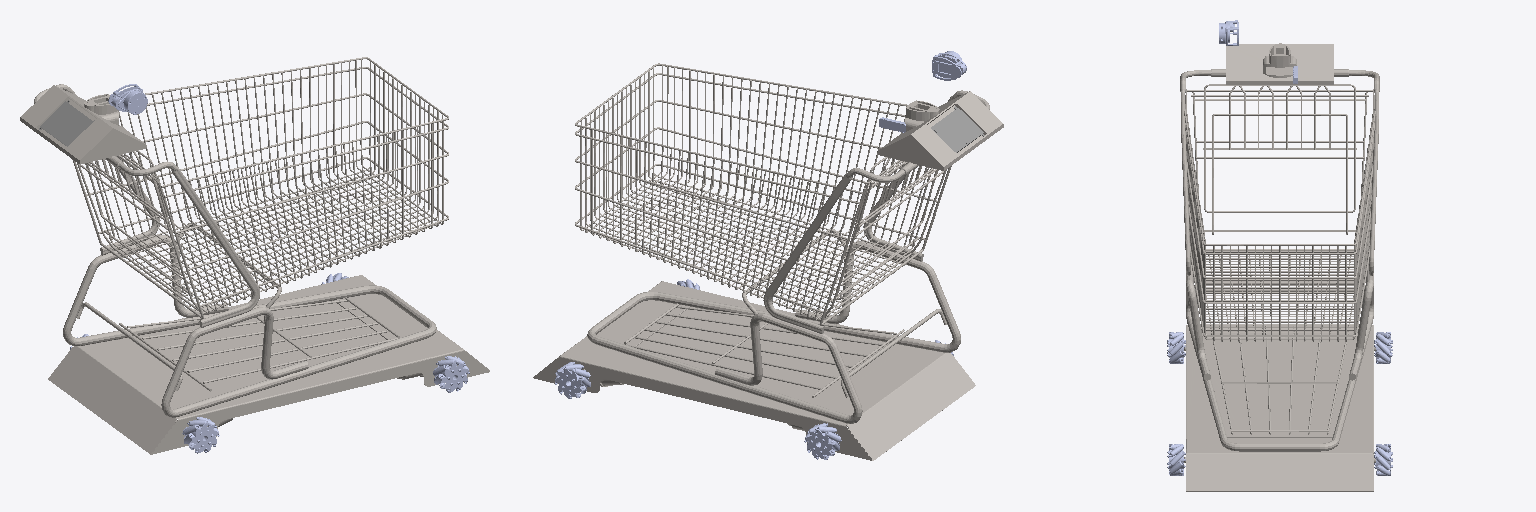
The robot description file, URDF, robot "carucior_asamblat":
<?xml version="1.0" encoding="utf-8"?>
<robot name="carucior_asamblat">

  <!-- ============================================================
       FRAME CONVENTION FIX
       Modelul CAD a fost exportat cu axa "forward" pe -Y in loc de
       +X standard. Pentru a face nav2/slam_toolbox/etc sa-l vada cu
       forward pe +X (conventia ROS), introducem base_footprint ca
       root si rotim base_link cu +90deg Z. Astfel:
         base_footprint +X = base_link -Y = robot's actual forward
         base_footprint +Y = base_link +X = robot's actual left
       Toate inversiunile cmd_vel din cod (follower, delivery_manager)
       devin inutile dupa acest fix.
       ============================================================ -->
  <link name="base_footprint"/>

  <joint name="base_footprint_to_base_link" type="fixed">
    <!-- base_footprint = CENTRUL DE ROTATIE (mijloc roti spate motrice).
         T_x=-0.24 pune base_footprint exact la mijloc roti spate:
           R(π/2)*(0.51,-0.24) + (-0.24,-0.51) = (0,0) ✓
         Astfel plugin-ul diff_drive raporteaza odom corect (fara wobble
         rotativ). z=-0.24 pastreaza wheel bottom la sol. -->
    <origin xyz="-0.24 -0.51 -0.24" rpy="0 0 1.5708"/>
    <parent link="base_footprint"/>
    <child  link="base_link"/>
  </joint>

  <!-- ===================== BASE ===================== -->
  <link
    name="base_link">
    <inertial>
      <origin xyz="0.538 -0.580 0.830" rpy="0 0 0"/>
      <mass value="63.3293776271428"/>
      <inertia ixx="14.8168" ixy="0" ixz="0"
               iyy="7.7277"  iyz="0"
               izz="11.4307"/>
    </inertial>



    <visual>
      <origin
        xyz="0 0 0"
        rpy="0 0 0" />
      <geometry>
        <mesh
          filename="package://carucior_asamblat/meshes/base_link.STL" />
      </geometry>
      <material
        name="">
        <color
          rgba="0.776470588235294 0.756862745098039 0.737254901960784 1" />
      </material>
    </visual>
    <collision>
      <origin
        xyz="0 0 0"
        rpy="0 0 0" />
      <geometry>
        <mesh
          filename="package://carucior_asamblat/meshes/base_link.STL" />
      </geometry>
    </collision>
  </link>
  <link
    name="roata_fata_stanga">
    <inertial>
      <origin
        xyz="-9.11939412873153E-11 3.62448737689647E-10 -0.029046440432834"
        rpy="0 0 0" />
      <mass
        value="0.266614745081332" />
      <inertia
        ixx="8.05443064198349E-05"
        ixy="-9.52176841062871E-16"
        ixz="-1.1689138977038E-12"
        iyy="8.05443064182605E-05"
        iyz="-3.10186380160039E-13"
        izz="9.3181151539936E-05" />
    </inertial>
    <visual>
      <origin
        xyz="0 0 0"
        rpy="0 0 0" />
      <geometry>
        <mesh
          filename="package://carucior_asamblat/meshes/roata_fata_stanga.STL" />
      </geometry>
      <material
        name="">
        <color
          rgba="0.792156862745098 0.819607843137255 0.933333333333333 1" />
      </material>
    </visual>
    <!-- Collision = cilindru primitiv in loc de mesh STL.
         Mesh-ul STL exportat din CAD are forma de coaja/spite si nu face
         contact corect cu podeaua → roata se invarte in gol fara tractiune.
         Cilindru radius=0.12 (matches <wheel_radius> in diff_drive plugin),
         length=0.05 (latime aproximativa). Axa cilindrului = axa locala Z
         a wheel-ului (aliniata cu axa de rotatie dupa rpy). -->
    <collision>
      <origin xyz="0 0 0" rpy="0 0 0" />
      <geometry>
        <cylinder radius="0.12" length="0.10"/>
      </geometry>
    </collision>
  </link>
  <joint
    name="left_front_wheel"
    type="continuous">
    <origin
      xyz="0.84131 -1.0876 0.36142"
      rpy="-1.5708 0.80851 1.5708" />
    <parent
      link="base_link" />
    <child
      link="roata_fata_stanga" />
    <!-- Axa flipuita fata de URDF-ul exportat. Cu rotatia base_footprint
         +π/2 + rpy-ul joint-ului, axa originala (0,0,1) ajungea sa indice
         -Y in base_footprint → pozitiv joint velocity = wheel rolling
         -X = robot inapoi. Cu (0,0,-1) axa ajunge la +Y → pozitiv joint
         velocity = wheel rolling +X = robot inainte (convenția standard
         cmd_vel.linear.x). Elimina nevoia de cmd_vel_inverter pe linear.x. -->
    <axis
      xyz="0 0 -1" />
  </joint>
  <link
    name="roata_fata_dreapta">
    <inertial>
      <origin
        xyz="1.07050701636524E-10 3.58637231023806E-10 0.0289535595345275"
        rpy="0 0 0" />
      <mass
        value="0.266614744778848" />
      <inertia
        ixx="8.05443061904032E-05"
        ixy="-1.05885217044008E-15"
        ixz="1.16525439589601E-12"
        iyy="8.05443061892018E-05"
        iyz="-3.41426218011546E-13"
        izz="9.31811510946259E-05" />
    </inertial>
    <visual>
      <origin
        xyz="0 0 0"
        rpy="0 0 0" />
      <geometry>
        <mesh
          filename="package://carucior_asamblat/meshes/roata_fata_dreapta.STL" />
      </geometry>
      <material
        name="">
        <color
          rgba="0.792156862745098 0.819607843137255 0.933333333333333 1" />
      </material>
    </visual>
    <collision>
      <origin xyz="0 0 0" rpy="0 0 0" />
      <geometry>
        <cylinder radius="0.12" length="0.10"/>
      </geometry>
    </collision>
  </link>
  <joint
    name="right_front_wheel"
    type="continuous">
    <origin
      xyz="0.17655 -1.0876 0.36142"
      rpy="1.5708 -0.63666 1.5708" />
    <parent
      link="base_link" />
    <child
      link="roata_fata_dreapta" />
    <!-- Axa flipuita pentru consistenta cu left_front_wheel (vezi comentariul de acolo). -->
    <axis
      xyz="0 0 1" />
  </joint>
  <link
    name="roata_spate_dreapta">
    <inertial>
      <origin
        xyz="1.07082620548482E-10 3.61238650103957E-10 0.0289535595348932"
        rpy="0 0 0" />
      <mass
        value="0.266614744779289" />
      <inertia
        ixx="8.05443061913611E-05"
        ixy="-1.04216392731327E-15"
        ixz="1.17188274724468E-12"
        iyy="8.05443061886055E-05"
        iyz="-3.37924085017717E-13"
        izz="9.31811510946647E-05" />
    </inertial>
    <visual>
      <origin
        xyz="0 0 0"
        rpy="0 0 0" />
      <geometry>
        <mesh
          filename="package://carucior_asamblat/meshes/roata_spate_dreapta.STL" />
      </geometry>
      <material
        name="">
        <color
          rgba="0.792156862745098 0.819607843137255 0.933333333333333 1" />
      </material>
    </visual>
    <collision>
      <origin xyz="0 0 0" rpy="0 0 0" />
      <geometry>
        <cylinder radius="0.12" length="0.10"/>
      </geometry>
    </collision>
  </link>
  <joint
    name="right_back_wheel"
    type="continuous">
    <origin
      xyz="0.17655 -0.23756 0.36142"
      rpy="1.5708 -1.447 1.5708" />
    <parent
      link="base_link" />
    <child
      link="roata_spate_dreapta" />
    <!-- Axa flipuita fata de URDF-ul exportat. Acum pozitiv joint velocity
         = wheel rolling +X in base_footprint → cmd_vel.linear.x pozitiv
         comanda fizic robotul inainte, fara cmd_vel_inverter. -->
    <axis
      xyz="0 0 1" />
  </joint>
  <link
    name="roata_spate_stanga">
    <inertial>
      <origin
        xyz="-1.10919662343889E-10 3.64174579381427E-10 -0.0290464404327475"
        rpy="0 0 0" />
      <mass
        value="0.266614745081752" />
      <inertia
        ixx="8.05443064196624E-05"
        ixy="1.87920103875703E-15"
        ixz="-1.16651727824361E-12"
        iyy="8.05443064184692E-05"
        iyz="-3.52761545193665E-13"
        izz="9.31811515398766E-05" />
    </inertial>
    <visual>
      <origin
        xyz="0 0 0"
        rpy="0 0 0" />
      <geometry>
        <mesh
          filename="package://carucior_asamblat/meshes/roata_spate_stanga.STL" />
      </geometry>
      <material
        name="">
        <color
          rgba="0.792156862745098 0.819607843137255 0.933333333333333 1" />
      </material>
    </visual>
    <collision>
      <origin xyz="0 0 0" rpy="0 0 0" />
      <geometry>
        <cylinder radius="0.12" length="0.10"/>
      </geometry>
    </collision>
  </link>
  <joint
    name="left_back_wheel"
    type="continuous">
    <origin
      xyz="0.84131 -0.23756 0.36142"
      rpy="1.5708 1.4028 -1.5708" />
    <parent
      link="base_link" />
    <child
      link="roata_spate_stanga" />
    <!-- Axa flipuita pentru consistenta cu right_back_wheel. -->
    <axis
      xyz="0 0 -1" />
  </joint>

  <!-- ===================== SENSORS ===================== -->
  <link name="lidar">
    <inertial>
      <origin xyz="0 0 0" rpy="0 0 0"/>
      <mass value="0.05"/>
      <inertia ixx="0.0005" ixy="0" ixz="0" iyy="0.0005" iyz="0" izz="0.0005"/>
    </inertial>
    <visual>
      <origin xyz="0 0 0" rpy="0 0 0"/>
      <geometry>
        <mesh filename="package://carucior_asamblat/meshes/lidar.STL"/>
      </geometry>
      <material name="sensor_color">
        <color rgba="0.792156862745098 0.819607843137255 0.933333333333333 1"/>
      </material>
    </visual>
    <collision>
      <origin xyz="0 0 0" rpy="0 0 0"/>
      <geometry>
        <cylinder radius="0.05" length="0.08"/>
      </geometry>
    </collision>
  </link>

  <joint name="rplidar" type="fixed">
    <origin xyz="0.43867 -0.12927 1.3141" rpy="0 0 1.5837"/>
    <parent link="base_link"/>
    <child link="lidar"/>
  </joint>

  <link name="camera">
    <inertial>
      <origin xyz="0 0 0" rpy="0 0 0"/>
      <mass value="0.05"/>
      <inertia ixx="0.0002" ixy="0" ixz="0" iyy="0.0002" iyz="0" izz="0.0002"/>
    </inertial>
    <visual>
      <origin xyz="0 0 0" rpy="0 0 0"/>
      <geometry>
        <mesh filename="package://carucior_asamblat/meshes/camera.STL"/>
      </geometry>
      <material name="sensor_color"/>
    </visual>
    <collision>
      <origin xyz="0 0 0" rpy="0 0 0"/>
      <geometry>
        <box size="0.08 0.05 0.05"/>
      </geometry>
    </collision>
  </link>

  <joint name="camera_joint" type="fixed">
    <origin xyz="0.57893 -0.11912 1.2827" rpy="1.5708 0 -1.5708"/>
    <parent link="base_link"/>
    <child link="camera"/>
  </joint>

  <link name="ecran">
    <inertial>
      <origin xyz="0 0 0" rpy="0 0 0"/>
      <mass value="0.05"/>
      <inertia ixx="0.00014" ixy="0" ixz="0" iyy="0.00046" iyz="0" izz="0.00032"/>
    </inertial>
    <visual>
      <origin xyz="0 0 0" rpy="0 0 0"/>
      <geometry>
        <mesh filename="package://carucior_asamblat/meshes/ecran.STL"/>
      </geometry>
      <material name="screen_color">
        <color rgba="0.627450980392157 0.627450980392157 0.627450980392157 1"/>
      </material>
    </visual>
    <collision>
      <origin xyz="0 0 0" rpy="0 0 0"/>
      <geometry>
        <box size="0.25 0.02 0.15"/>
      </geometry>
    </collision>
  </link>

  <joint name="lcd" type="fixed">
    <origin xyz="0.53788 0.023812 1.2956" rpy="-2.1817 0 0"/>
    <parent link="base_link"/>
    <child link="ecran"/>
  </joint>

  <!-- ===================== LIDAR LEGS (DR-SPAAM) =====================
       LiDAR auxiliar la baza caruciorului, FARA mesh vizual — exista
       doar pentru simulare. Folosit exclusiv pentru detectia oamenilor
       cu DR-SPAAM, care e antrenat pe scanari la inaltimea picioarelor.
       Parentat direct la base_footprint pentru a evita rotatia +π/2 a
       base_link, astfel sensor +X = robot forward (fara X-flip in detector).
       ============================================================= -->
  <link name="lidar_legs">
    <inertial>
      <origin xyz="0 0 0" rpy="0 0 0"/>
      <mass value="0.05"/>
      <inertia ixx="0.0001" ixy="0" ixz="0" iyy="0.0001" iyz="0" izz="0.0001"/>
    </inertial>
    <collision>
      <origin xyz="0 0 0" rpy="0 0 0"/>
      <geometry>
        <cylinder radius="0.03" length="0.04"/>
      </geometry>
    </collision>
  </link>

  <joint name="lidar_legs_joint" type="fixed">
    <!-- Front-bottom, leg height (~0.30m fata de sol). yaw=0 → sensor +X
         coincide cu base_footprint +X (forward). Plasat in fata centrului
         (x=0.55) pentru vizibilitate frontala buna a picioarelor. -->
    <origin xyz="0.55 0.0 0.30" rpy="0 0 0"/>
    <parent link="base_footprint"/>
    <child  link="lidar_legs"/>
  </joint>

  <!-- ===================== GAZEBO EXTENSIONS ===================== -->

  <!-- Wheel friction -->
  <gazebo reference="roata_spate_dreapta">
    <mu1>1.2</mu1>
    <mu2>1.2</mu2>
  </gazebo>
  <gazebo reference="roata_spate_stanga">
    <mu1>1.2</mu1>
    <mu2>1.2</mu2>
  </gazebo>
  <!-- Rotile din fata: frecare MICA (~caster). Caruciorul are 4 roti fixe
       (fara steering joint), dar plugin-ul diff_drive comanda doar rotile
       din spate. Cu mu mare aici, rotile din fata rezistau la alunecarea
       laterala necesara pentru rotatie → robotul fizic se rotea mult mai
       incet decat raporta odom-ul → harta SLAM primea cadre prea dese
       (RViz arata "mai repede" decat fizic). Cu mu mic, rotile din fata
       aluneca liber in orice directie (~ball-caster), back wheels fac
       intreaga tractiune si rotatie, iar odom ↔ fizic raman sincronizate. -->
  <gazebo reference="roata_fata_dreapta">
    <mu1>0.00</mu1>
    <mu2>0.00</mu2>
  </gazebo>
  <gazebo reference="roata_fata_stanga">
    <mu1>0.00</mu1>
    <mu2>0.00</mu2>
  </gazebo>

  <!-- LiDAR -->
  <gazebo reference="lidar">
    <sensor name="lidar_sensor" type="gpu_lidar">
      <always_on>true</always_on>
      <update_rate>10</update_rate>
      <visualize>true</visualize>
      <topic>lidar</topic>
      <ray>
        <scan>
          <horizontal>
            <samples>720</samples>
            <resolution>1</resolution>
            <min_angle>-3.14159</min_angle>
            <max_angle>3.14159</max_angle>
          </horizontal>
        </scan>
        <range>
          <min>0.12</min>
          <max>12.0</max>
          <resolution>0.01</resolution>
        </range>
      </ray>
    </sensor>
  </gazebo>

  <!-- LiDAR legs (DR-SPAAM) — publica pe topic Gazebo "lidar_legs",
       bridge-uit la ROS ca /scan_legs. -->
  <gazebo reference="lidar_legs">
    <sensor name="lidar_legs_sensor" type="gpu_lidar">
      <always_on>true</always_on>
      <update_rate>15</update_rate>
      <visualize>true</visualize>
      <topic>lidar_legs</topic>
      <ray>
        <scan>
          <horizontal>
            <samples>720</samples>
            <resolution>1</resolution>
            <min_angle>-3.14159</min_angle>
            <max_angle>3.14159</max_angle>
          </horizontal>
        </scan>
        <range>
          <min>0.12</min>
          <max>12.0</max>
          <resolution>0.01</resolution>
        </range>
      </ray>
    </sensor>
  </gazebo>

  <!-- Depth camera -->
  <gazebo reference="camera">
    <sensor name="depth_camera" type="depth_camera">
      <pose>0 0 0 1.5708 0 0</pose>
      <always_on>true</always_on>
      <update_rate>15</update_rate>
      <visualize>true</visualize>
      <topic>depth_camera</topic>
      <camera>
        <horizontal_fov>1.047</horizontal_fov>
        <image>
          <width>640</width>
          <height>480</height>
          <format>R8G8B8</format>
        </image>
        <clip>
          <near>0.1</near>
          <far>10.0</far>
        </clip>
      </camera>
    </sensor>
    <sensor name="rgb_camera" type="camera">
      <always_on>true</always_on>
      <update_rate>15</update_rate>
      <visualize>true</visualize>
      <topic>rgb_camera</topic>
      <camera>
        <horizontal_fov>1.047</horizontal_fov>
        <image>
          <width>640</width>
          <height>480</height>
          <format>R8G8B8</format>
        </image>
        <clip>
          <near>0.1</near>
          <far>1000000.0</far>
        </clip>
      </camera>
    </sensor>
  </gazebo>

  <!-- DiffDrive (gz-sim) -->
  <!-- Parametrii reali ai plugin-ului: topic, odom_topic, tf_topic,
       frame_id, child_frame_id, odom_publish_frequency. -->
  <gazebo>
    <plugin filename="gz-sim-diff-drive-system" name="gz::sim::systems::DiffDrive">
      <topic>cmd_vel</topic>
      <!-- Topic-ul Gazebo trebuie sa match-uiasca exact ce subscribe bridge-ul.
           Bridge listens la /model/carucior_asamblat/odometry → remap → /odom. -->
      <odom_topic>/model/carucior_asamblat/odometry</odom_topic>
      <tf_topic>/model/carucior_asamblat/tf</tf_topic>
      <frame_id>odom</frame_id>
      <child_frame_id>base_footprint</child_frame_id>
      <odom_publish_frequency>30</odom_publish_frequency>

      <!-- Distanta REALA intre roti din spate: |0.84131 - 0.17655| = 0.66476m.
           Cu 0.55 (valoarea anterioara), plugin-ul calcula incorect odometria
           si raportarea unghiulara nu coincidea cu rotatia fizica. -->
      <wheel_separation>0.66476</wheel_separation>
      <wheel_radius>0.12</wheel_radius>

      <!-- Joints in ordinea originala (NU swap). Cu rotatia URDF +pi/2:
             - left_back_wheel ajunge la base_footprint +Y (robot's left) ✓
             - right_back_wheel ajunge la base_footprint -Y (robot's right) ✓
           Plugin's "left/right" coincid cu lateralitate reala → angular ✓
           Inversia linear.x e facuta de cmd_vel_inverter (nod separat). -->
      <left_joint>left_back_wheel</left_joint>
      <right_joint>right_back_wheel</right_joint>

      <max_linear_velocity>0.4</max_linear_velocity>
      <max_angular_velocity>1.0</max_angular_velocity>
      <max_linear_acceleration>0.3</max_linear_acceleration>
      <max_angular_acceleration>0.8</max_angular_acceleration>
    </plugin>
  </gazebo>
  <gazebo>
    <plugin filename="gz-sim-linearbatteryplugin-system"
            name="gz::sim::systems::LinearBatteryPlugin">
      <battery_name>main</battery_name>

      <!-- 5600 mAh = 5.6 Ah -->
      <capacity>5.6</capacity>
      <initial_charge>5.6</initial_charge>

      <!-- IMPORTANT: trebuie tensiune nominală (ex: 11.1V pentru 3S, 14.8V pentru 4S) -->
      <voltage>11.1</voltage>

      <!-- HOUSE LOAD: electronice + senzori -->
      <power_load>28.0</power_load>
    </plugin>
  </gazebo>
  <gazebo>
    <plugin filename="libdiffdrive_battery_consumer.so"
            name="gz::sim::systems::DiffDriveBatteryConsumer">

      <!-- același nume ca mai sus -->
      <battery_name>main</battery_name>

      <!-- IMPORTANT: schimbi cu jointurile tale reale -->
      <left_joint>left_back_wheel</left_joint>
      <right_joint>right_back_wheel</right_joint>

      <!-- dacă vrei, poți pune aici house_load_w = 0 și să-l lași doar în baterie,
          sau invers. Eu recomand să lași house doar în baterie și aici 0. -->
      <house_load_w>0.0</house_load_w>

      <!-- randament transmisie -->
      <efficiency>0.75</efficiency>

      <!-- consum minim motoare (W per motor) -->
      <idle_per_motor_w>3.0</idle_per_motor_w>

      <!-- fallback dacă torque nu e disponibil: -->
      <vel_coeff_w_per_radps>0.8</vel_coeff_w_per_radps>
      <acc_coeff_w_per_radps2>0.2</acc_coeff_w_per_radps2>

    </plugin>
  </gazebo>

</robot>

--- Render facts (derived) ---
Views: 3 orthographic renders of the robot side by side, from view 1: azimuth 30°, elevation 25°; view 2: azimuth 150°, elevation 25°; view 3: azimuth 270°, elevation 25°.
Model carucior_asamblat with 10 links and 9 joints (4 continuous, 5 fixed), rooted at base_footprint, posed all joints at 0.
Links seen in each view (by area): view 1: base_link, ecran, roata_fata_dreapta, roata_spate_dreapta, lidar; view 2: base_link, ecran, roata_fata_stanga, roata_spate_stanga, lidar; view 3: base_link.
Boxes of the visible links, x1,y1,x2,y2 form: base_link: [20, 57, 489, 454]; ecran: [39, 100, 94, 146]; roata_fata_dreapta: [433, 356, 469, 392]; roata_spate_dreapta: [182, 417, 219, 453]; lidar: [108, 84, 147, 114]; base_link: [533, 63, 1003, 460]; ecran: [931, 106, 984, 152]; roata_fata_stanga: [555, 362, 590, 398]; roata_spate_stanga: [804, 423, 841, 459]; lidar: [932, 51, 966, 80]; base_link: [1180, 43, 1379, 491].
Size in the robot's own frame: 1.32 by 0.7228 by 1.14 metres.
8 mesh visuals loaded from 8 distinct referenced files (8 binary STL).
